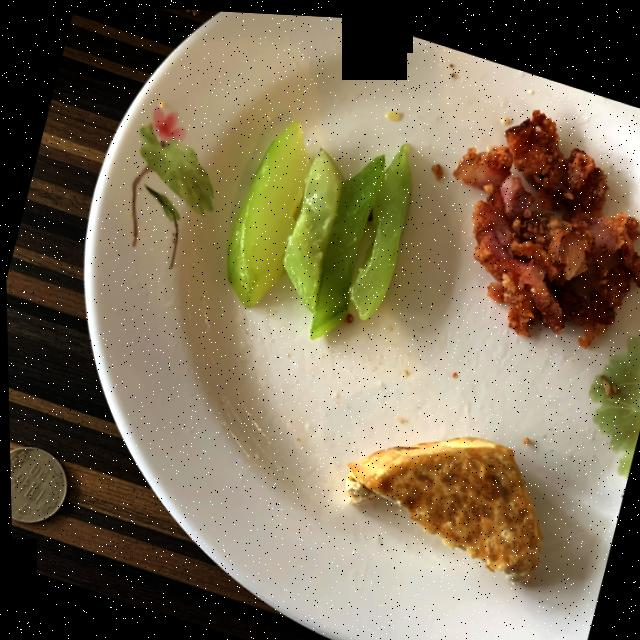coin: (8, 445, 65, 522)
red grilled pork: (454, 103, 640, 339)
